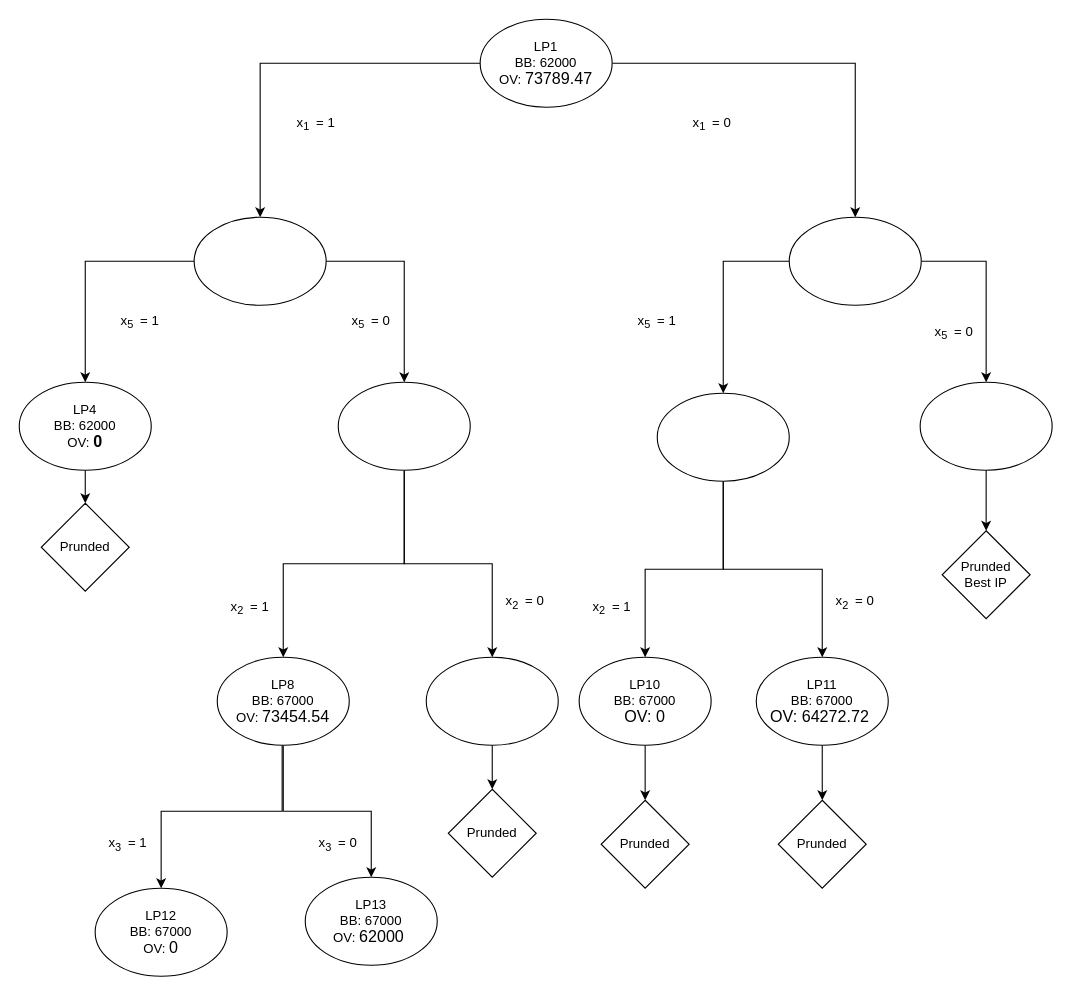
This 1071x996 diagram has some shape labels left out. The centre of each missing label's shape, as x and y in pixels:
"LP2 BB: 62000 OV: 73789.47" belongs at (x=259, y=260).
"LP3 BB: 62000 OV: 71421.05" belongs at (x=854, y=260).
"LP5 BB: 62000 OV: 73454.54" belongs at (x=403, y=425).
"LP6 BB: 62000 OV: 70428.57" belongs at (x=722, y=436).
"LP7 BB: 62000 OV: 67000" belongs at (x=985, y=425).
"LP9 BB: 67000 OV: 65000" belongs at (x=491, y=700).
